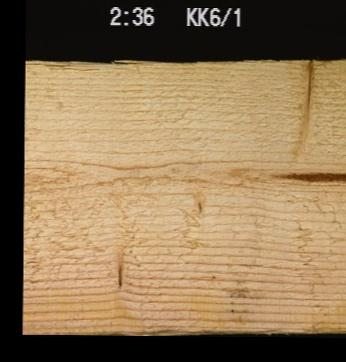small_knot: (186, 195, 209, 219)
split: (24, 59, 103, 72)
